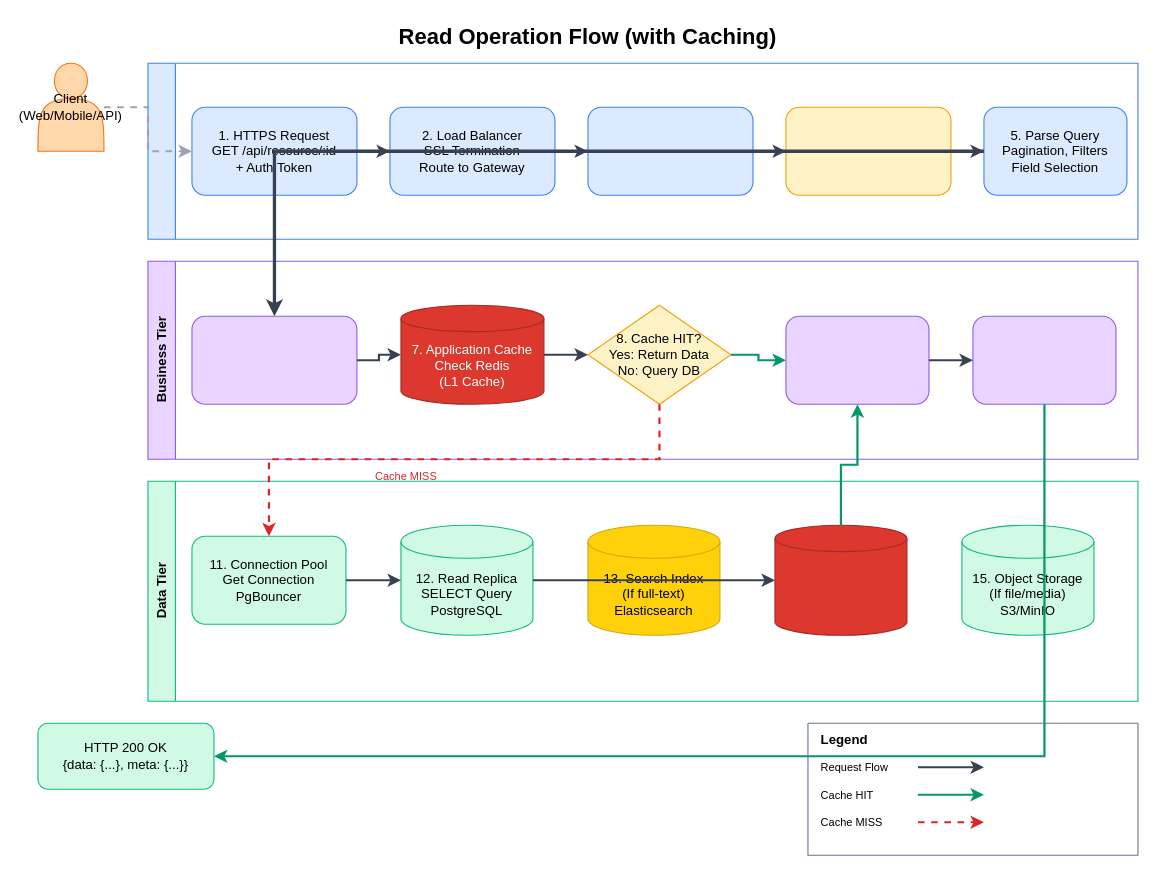
Image size: 1157x875. Some labels were removed from this diagram. The shapes that lost their labels are listed below. From the top down, each one's box as (x1, y1, x2, y2) in pixels, then its label:
(147, 62, 1138, 239): API Tier
(587, 106, 753, 195): 3. Auth Check JWT Validation Read Permission
(785, 106, 951, 195): 4. Response Cache Check CDN/Edge (If cacheable)
(191, 315, 357, 404): 6. Service Router Find Target Service Load Balance
(785, 315, 929, 404): 9. Transform DTO Mapping Field Filtering
(972, 315, 1116, 404): 10. Serialize JSON Response Add Headers
(774, 524, 907, 635): 14. Populate Cache Store Result Set TTL
